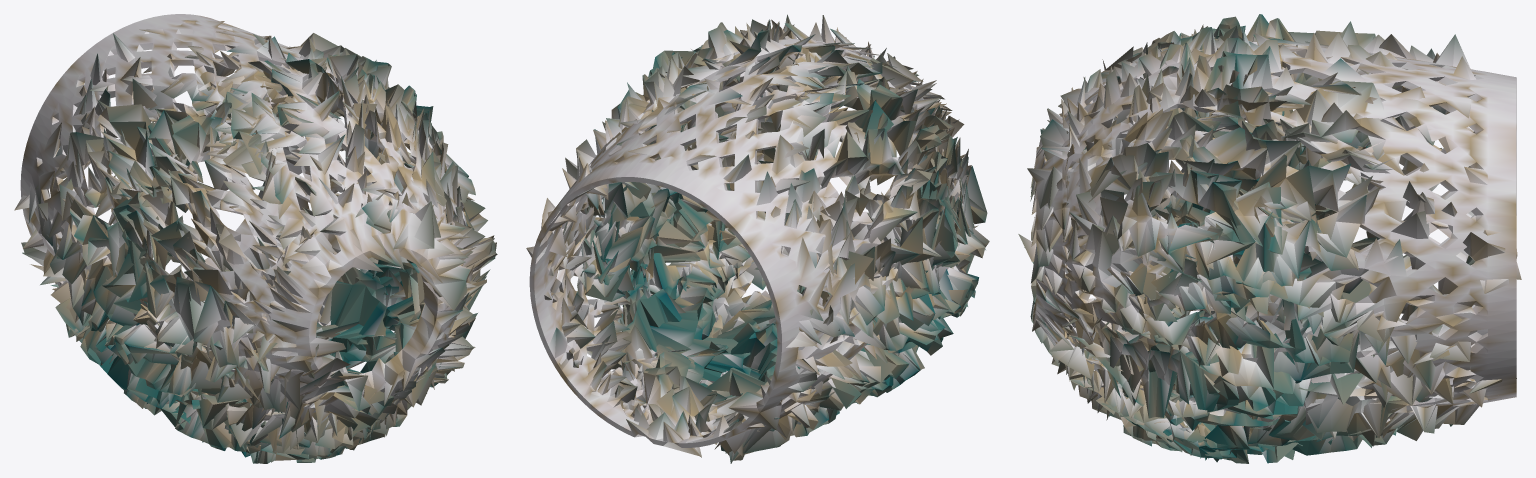
Rendered from lamp_shade_14_final400.obj.
3 renders of one model, left to right at view 1: azimuth 30°, elevation 25°; view 2: azimuth 150°, elevation 25°; view 3: azimuth 270°, elevation 25°, orthographic. The views are drawn at different scales.
Bounding box in the file's own units: 1.37 × 1.38 × 1.56.
